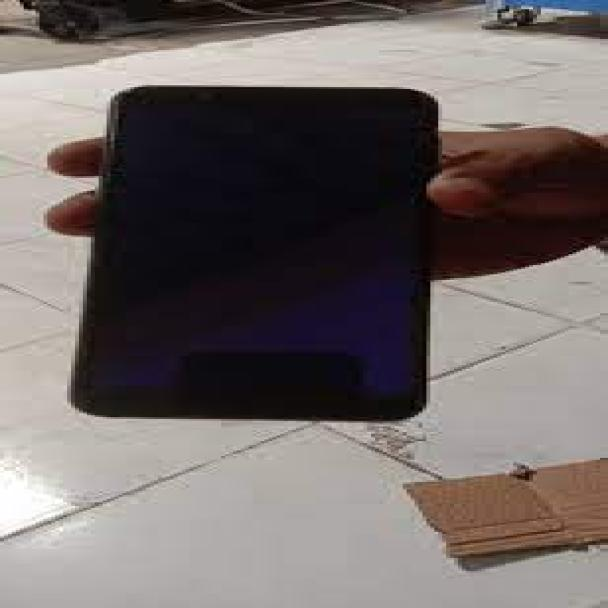Handphone: (100, 88, 438, 420)
